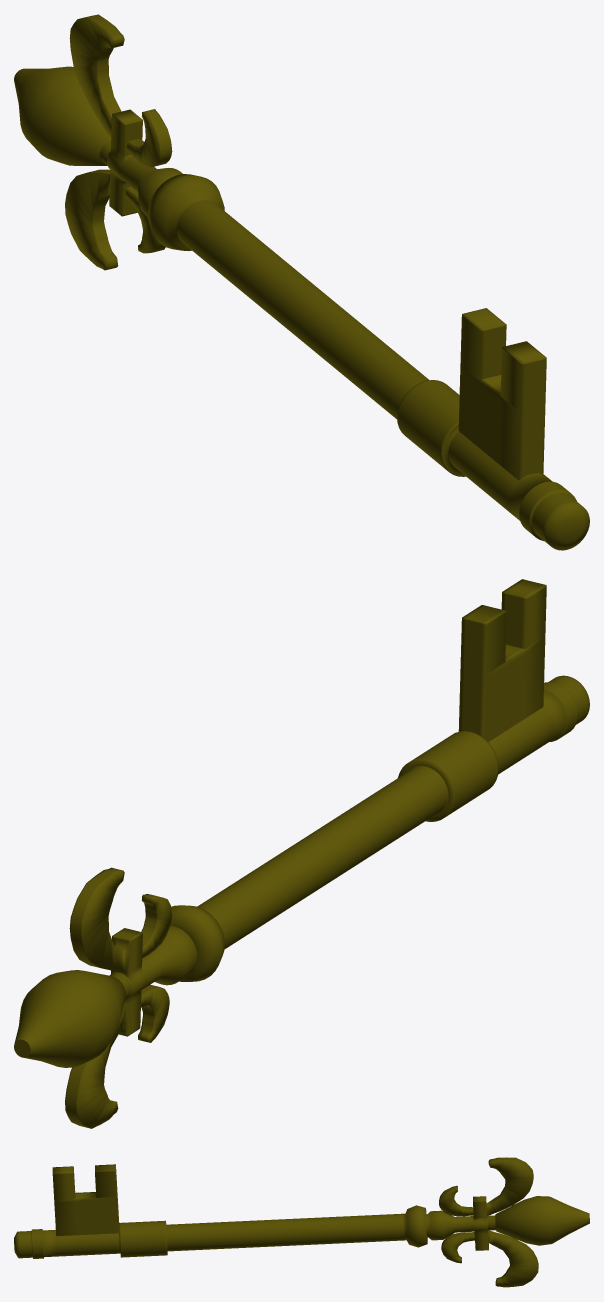
The model's file is key.dae.
The picture shows the model from 3 angles, top to bottom: view 1: azimuth 30°, elevation 25°; view 2: azimuth 150°, elevation 25°; view 3: azimuth 270°, elevation 25°; orthographic projection. The views are drawn at different scales.
Parts seen in each view (by area): view 1: Cylinder; view 2: Cylinder; view 3: Cylinder.
Part boxes in pixels (box(x1,y1,x2,y2)): Cylinder: box(14, 14, 589, 550); Cylinder: box(14, 579, 589, 1128); Cylinder: box(14, 1157, 589, 1287).
Bounding box in the file's own units: 0.6533 × 7.55 × 1.84.
